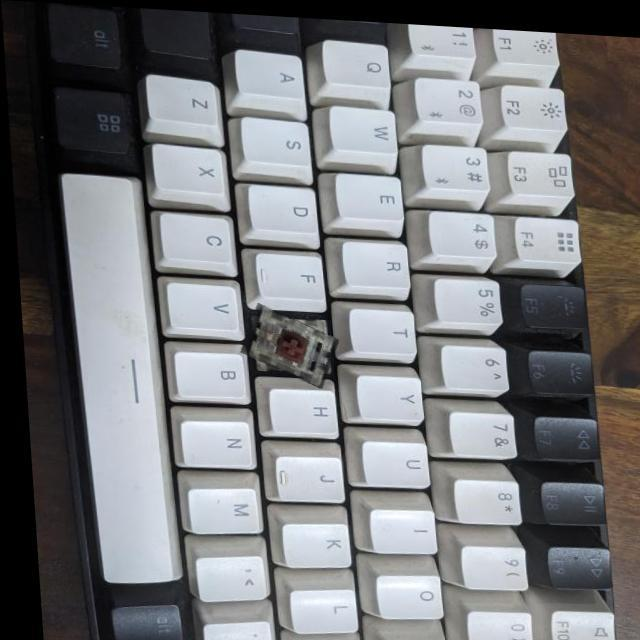key-switch: (236, 305, 333, 378)
